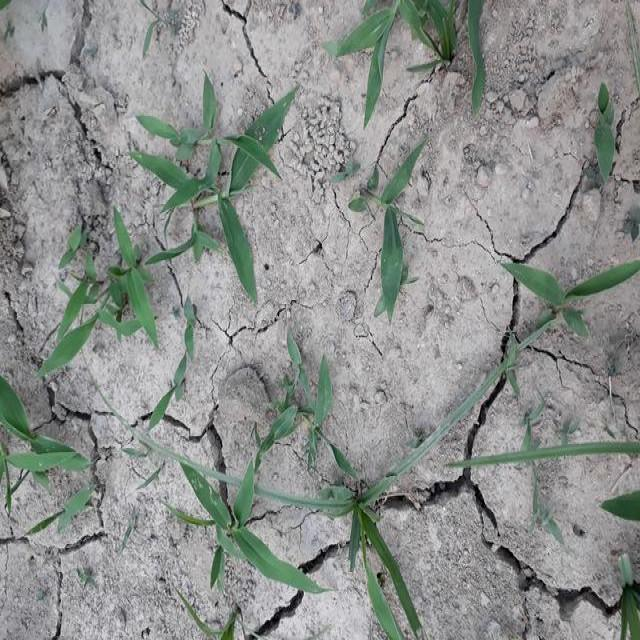weed: (133, 79, 299, 276), (170, 464, 322, 611), (337, 0, 498, 104), (61, 204, 178, 340), (250, 346, 342, 463), (500, 254, 638, 321), (0, 399, 86, 500), (374, 147, 419, 316), (438, 436, 640, 466), (597, 83, 620, 207)
